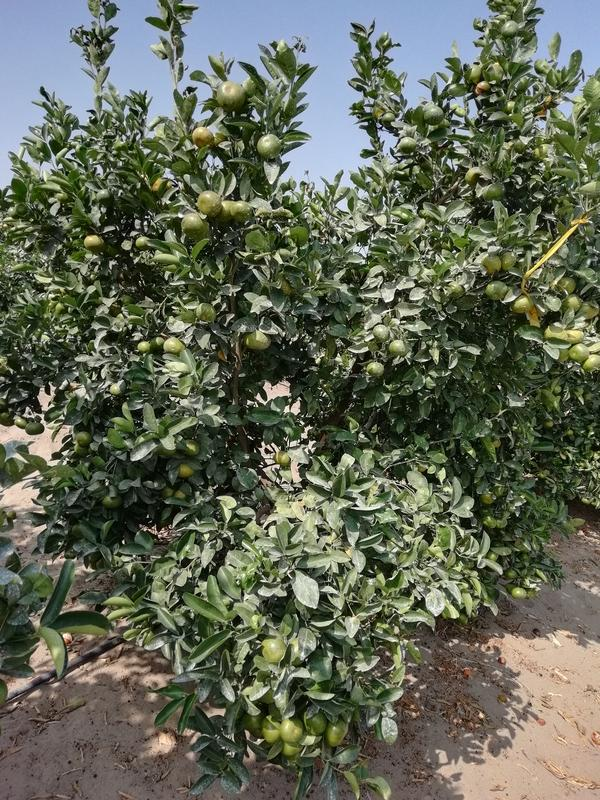mandarina verde: (215, 80, 246, 110), (195, 190, 223, 216), (261, 637, 287, 663), (257, 134, 283, 158), (261, 714, 281, 744), (280, 719, 303, 744), (326, 722, 349, 746), (180, 214, 204, 236), (193, 302, 218, 322), (192, 126, 215, 147), (230, 201, 253, 221), (485, 281, 509, 300), (246, 332, 271, 350), (305, 715, 328, 734), (511, 296, 534, 314), (425, 105, 444, 125), (164, 336, 185, 354), (569, 343, 589, 361), (388, 338, 409, 355), (372, 323, 390, 341), (75, 431, 94, 448), (399, 136, 418, 153), (82, 235, 105, 249), (500, 252, 517, 270), (564, 295, 581, 312), (502, 20, 518, 38), (274, 450, 291, 466), (367, 362, 385, 377), (582, 356, 600, 371), (25, 421, 44, 435), (282, 745, 303, 756), (97, 188, 112, 203), (178, 464, 195, 477), (510, 587, 528, 599), (137, 340, 151, 353), (135, 236, 150, 248), (383, 112, 396, 125)
